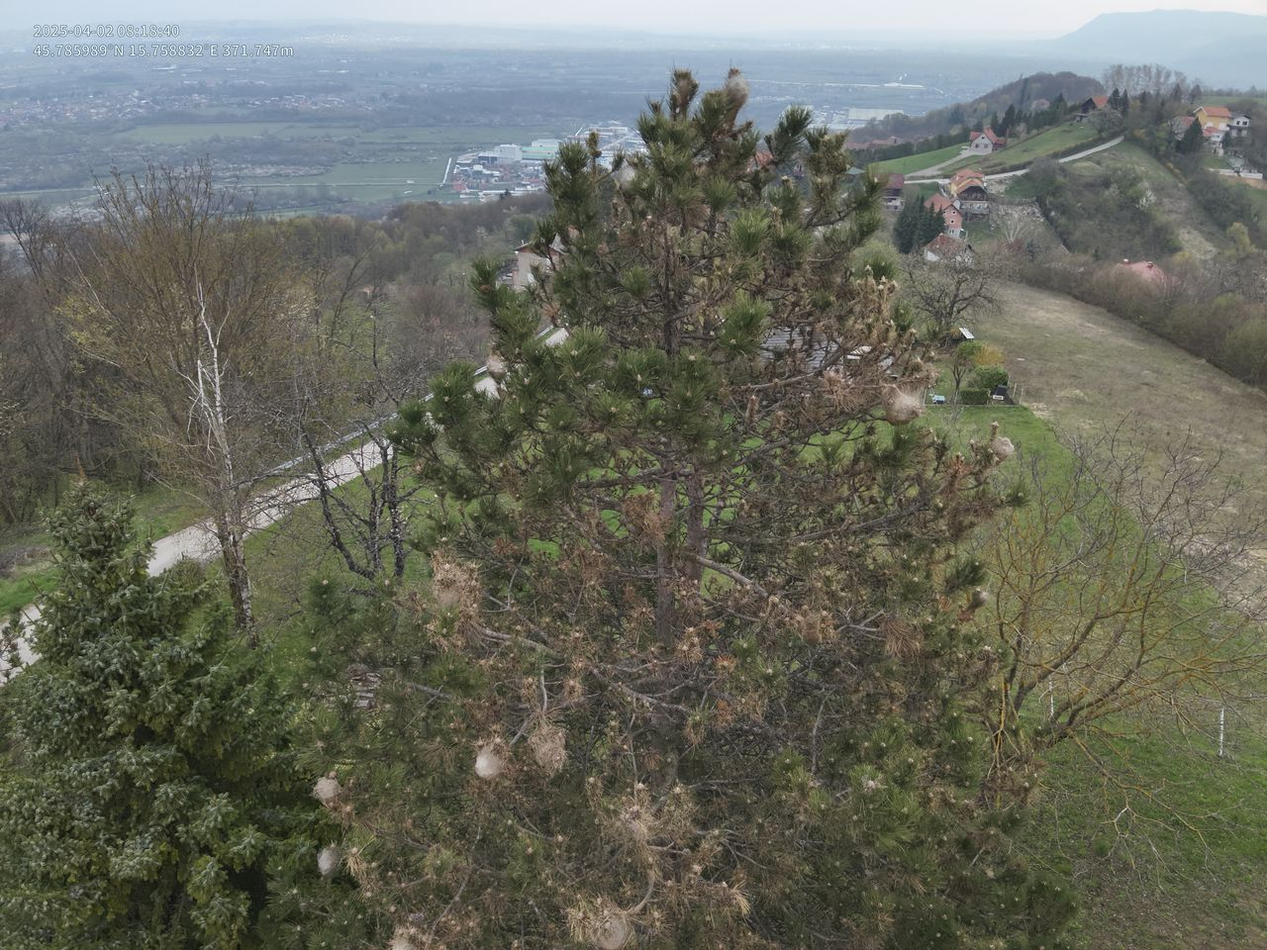thaumatopoea pityocampa jajno gnijezdo: (566, 900, 629, 947), (428, 561, 478, 617), (530, 727, 571, 779), (971, 427, 1020, 470), (470, 740, 516, 785), (510, 247, 550, 288), (306, 771, 348, 809), (885, 384, 928, 420), (611, 154, 647, 195), (316, 839, 350, 879), (720, 67, 753, 106), (484, 345, 510, 384), (673, 70, 698, 108)
